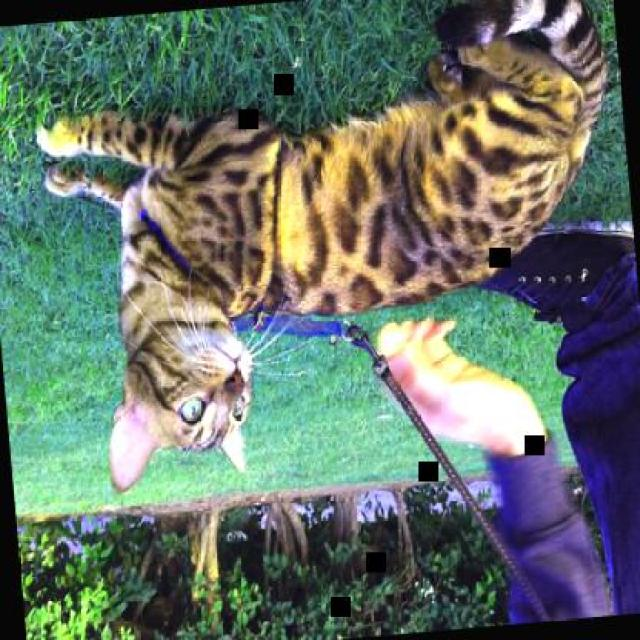cat: (26, 0, 639, 500)
